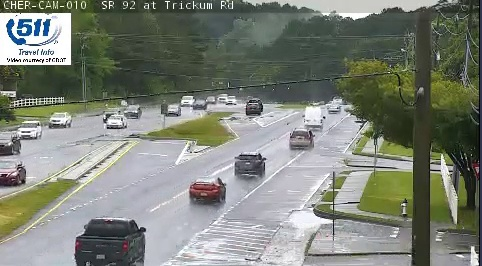car: (76, 217, 146, 266), (189, 178, 225, 200), (234, 153, 265, 175), (289, 130, 313, 149)
van: (304, 106, 322, 129)
